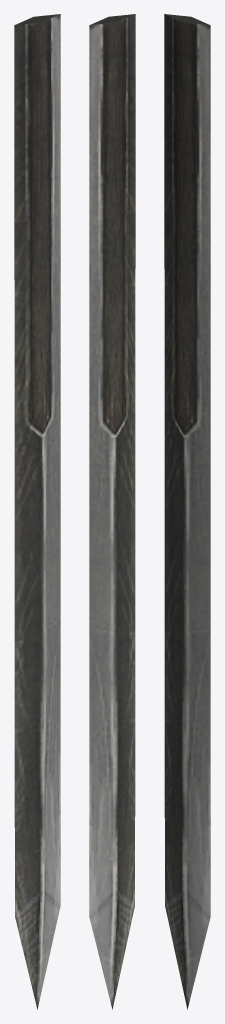
The model's file is Zhijian_body.FBX.
3 renders of one model, left to right at view 1: azimuth 30°, elevation 25°; view 2: azimuth 210°, elevation 25°; view 3: azimuth 330°, elevation 25°, orthographic.
Parts seen in each view (by area): view 1: Zhijian_body; view 2: Zhijian_body; view 3: Zhijian_body.
Boxes of the visible parts, x1,y1,x2,y2 form: Zhijian_body: (14,14,60,1009); Zhijian_body: (89,14,135,1009); Zhijian_body: (164,14,210,1009).
Size of the model in its own units: 5.99 by 122 by 1.95.
1 material, 1 textured.
